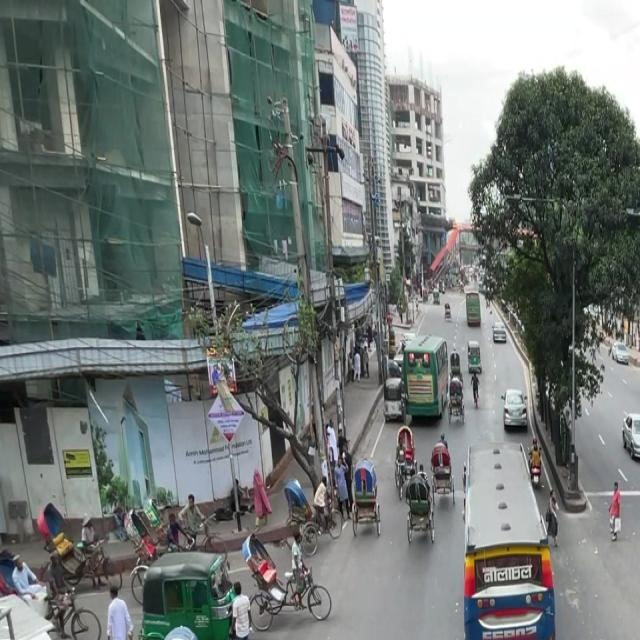bus: (454, 437, 564, 640)
car: (498, 386, 532, 438), (619, 407, 640, 467)
rickshaw: (133, 547, 245, 640)
